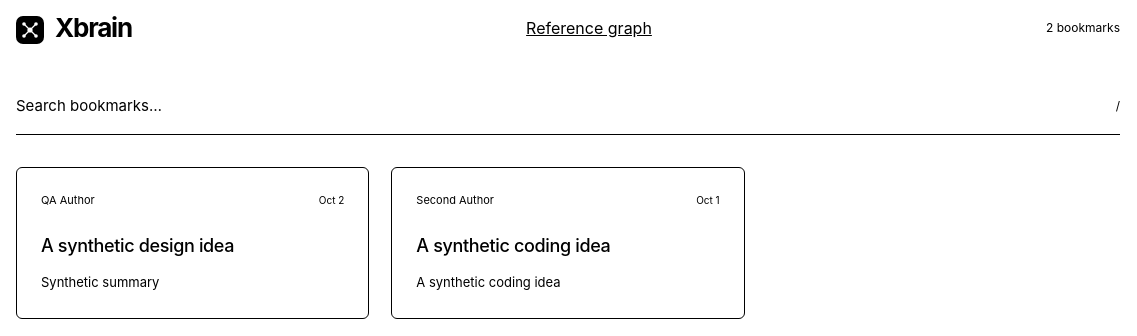
Scenario: Read-only bookmark gallery › multiword search matches author and post text and updates the result count
In the search field with id "search": (558, 106) [16,91,1100,122], type "design QA"
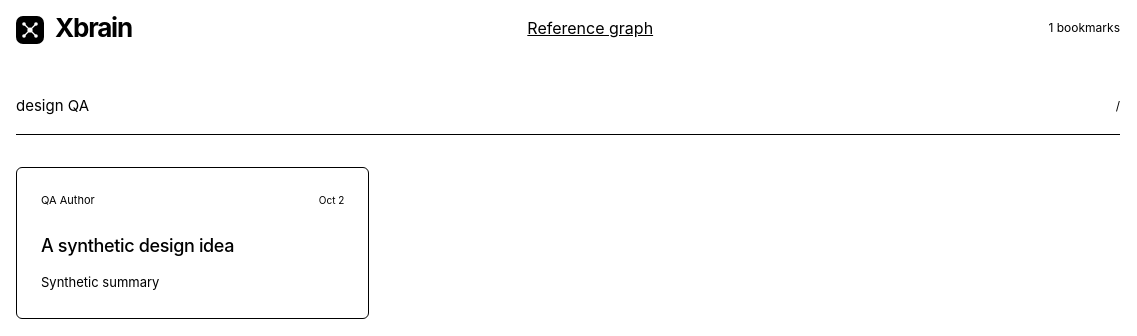
Expected: the button "QA Author Oct 2 A synthetic design idea Synthetic summary" is shown, [17,168,368,318]
Now the text with id "result-count" shows "1", box [1048,20,1120,34]
